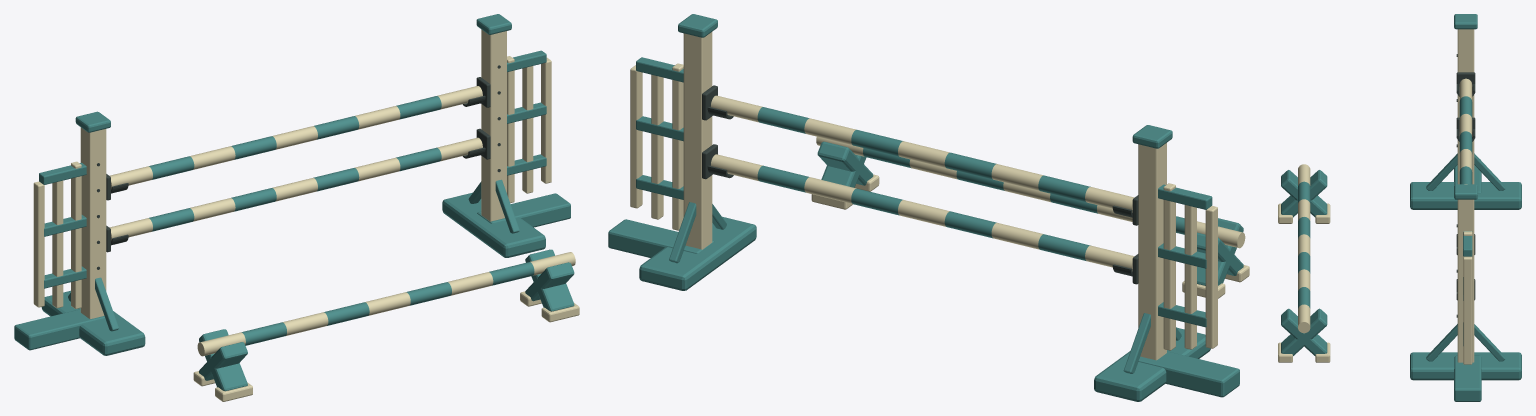
The model's file is training_jump.glb.
The picture shows the model from 3 angles, left to right: view 1: azimuth 30°, elevation 25°; view 2: azimuth 150°, elevation 25°; view 3: azimuth 270°, elevation 25°; orthographic projection. The views are drawn at different scales.
Parts seen in each view (by area): view 1: Jump_Standard_L, Jump_Standard_R, Jump_Pole_Upper, Jump_Pole_Lower, Cavaletti_Pole, Cavaletti_Block_R, Cavaletti_Block_L; view 2: Jump_Standard_R, Jump_Standard_L, Jump_Pole_Lower, Jump_Pole_Upper, Cavaletti_Pole, Cavaletti_Block_R, Cavaletti_Block_L; view 3: Jump_Standard_R, Jump_Standard_L, Cavaletti_Pole, Cavaletti_Block_R, Cavaletti_Block_L, Jump_Pole_Upper, Pole_Cup_L_110.
Part boxes in pixels (<box>): Jump_Standard_L: <box>14,111,145,355</box>; Jump_Standard_R: <box>442,14,570,257</box>; Jump_Pole_Upper: <box>109,86,482,189</box>; Jump_Pole_Lower: <box>109,137,482,240</box>; Cavaletti_Pole: <box>197,252,575,356</box>; Cavaletti_Block_R: <box>520,249,579,322</box>; Cavaletti_Block_L: <box>193,329,252,401</box>; Jump_Standard_R: <box>608,14,756,290</box>; Jump_Standard_L: <box>1094,125,1239,401</box>; Jump_Pole_Lower: <box>711,154,1134,271</box>; Jump_Pole_Upper: <box>711,95,1134,212</box>; Cavaletti_Pole: <box>816,136,1245,248</box>; Cavaletti_Block_R: <box>811,141,879,209</box>; Cavaletti_Block_L: <box>1182,218,1249,298</box>; Jump_Standard_R: <box>1410,184,1521,401</box>; Jump_Standard_L: <box>1410,14,1521,209</box>; Cavaletti_Pole: <box>1298,164,1310,333</box>; Cavaletti_Block_R: <box>1278,308,1330,362</box>; Cavaletti_Block_L: <box>1278,170,1330,223</box>; Jump_Pole_Upper: <box>1459,78,1472,184</box>; Pole_Cup_L_110: <box>1456,72,1475,96</box>.
Size of the model in its own units: 4.39 by 1.63 by 1.96.
